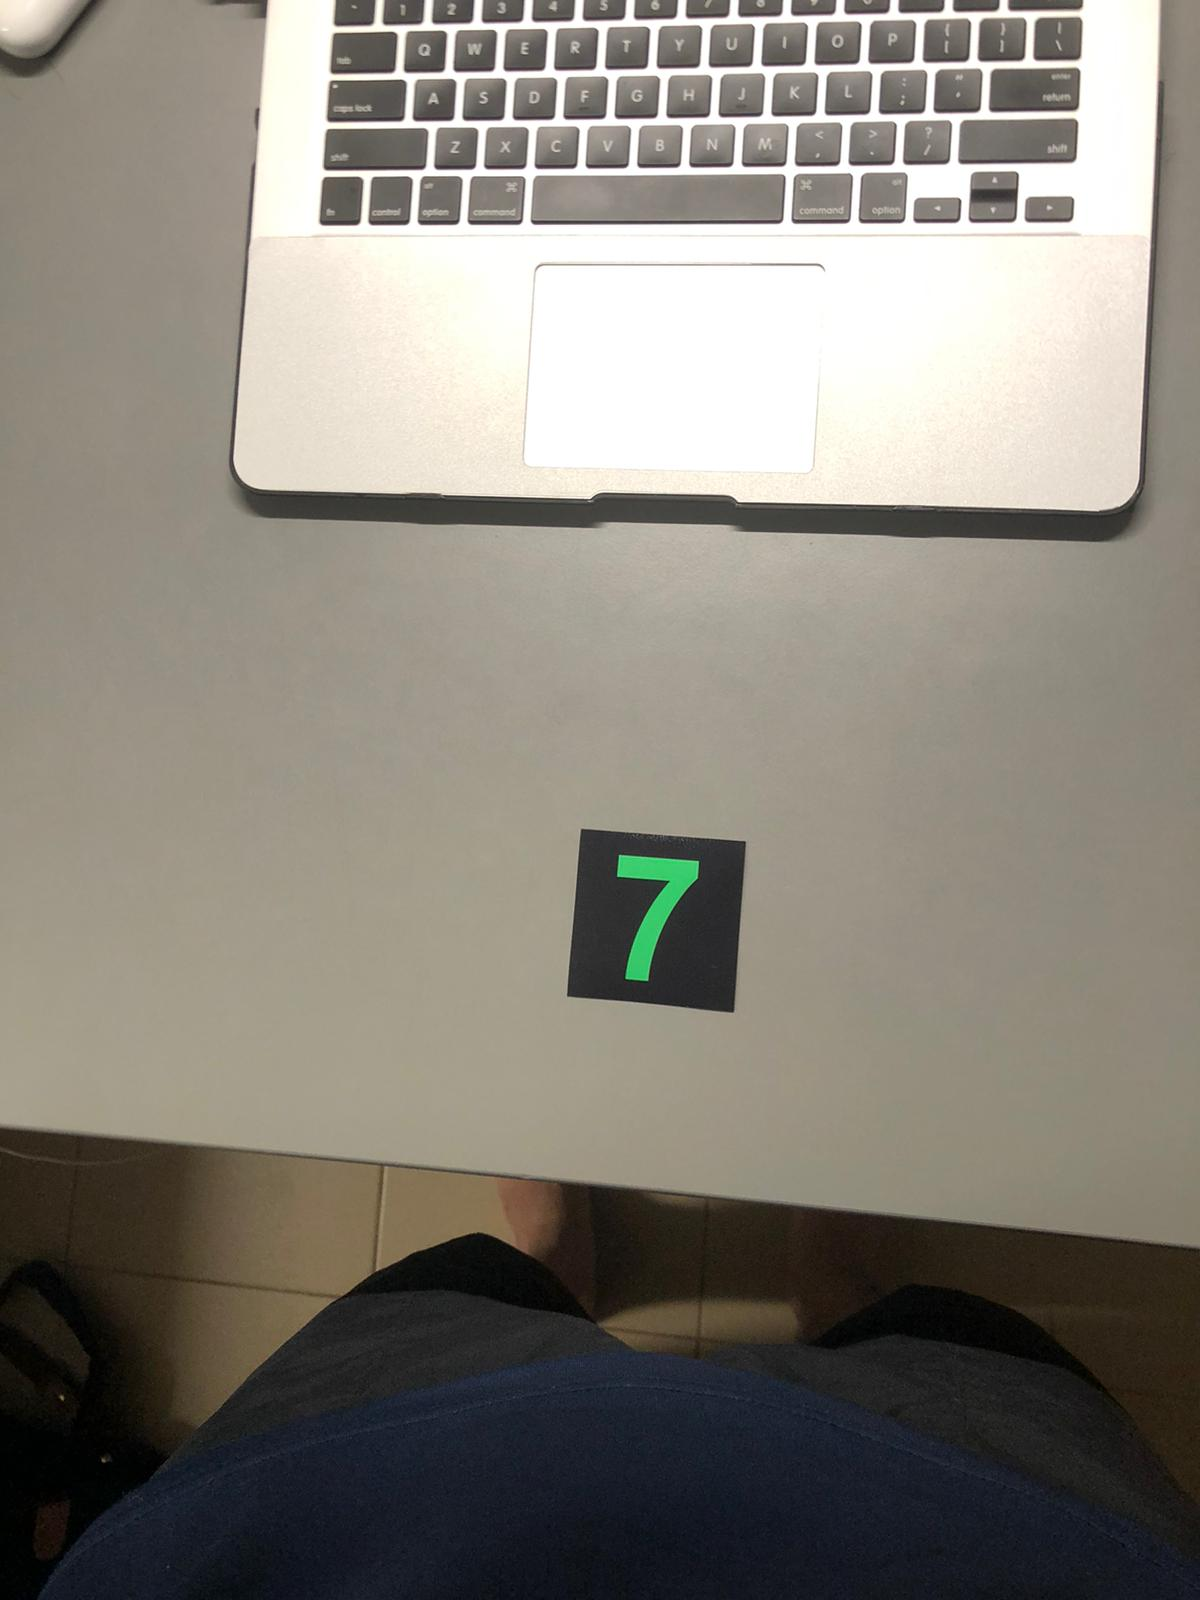Number 7: (570, 829, 735, 1015)
